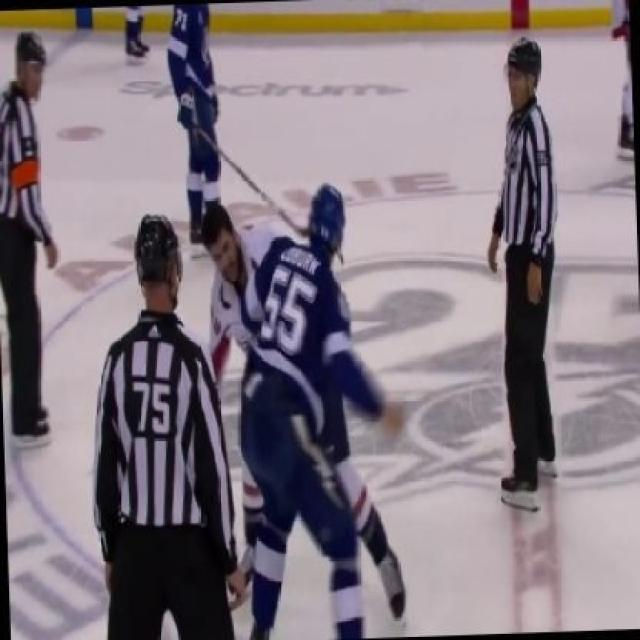fight: (187, 180, 411, 638), (480, 36, 568, 509)
non-fight: (87, 202, 270, 638), (0, 23, 69, 448)
